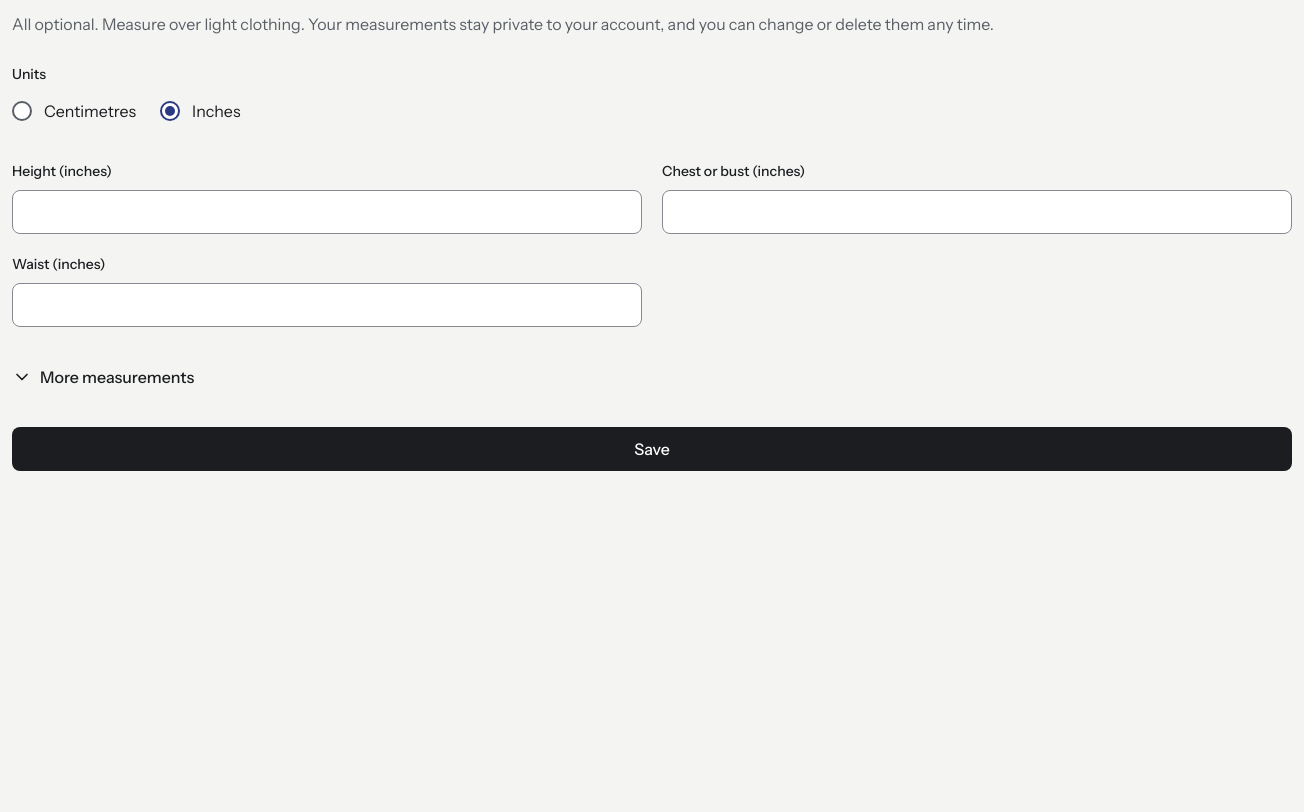
Scenario: explains a measurement out of range in the chosen units
The image size is (1304, 812).
Type "5" into the field labelled "Chest or bust (inches)". click: (977, 212)
box: [662,190,1292,234]
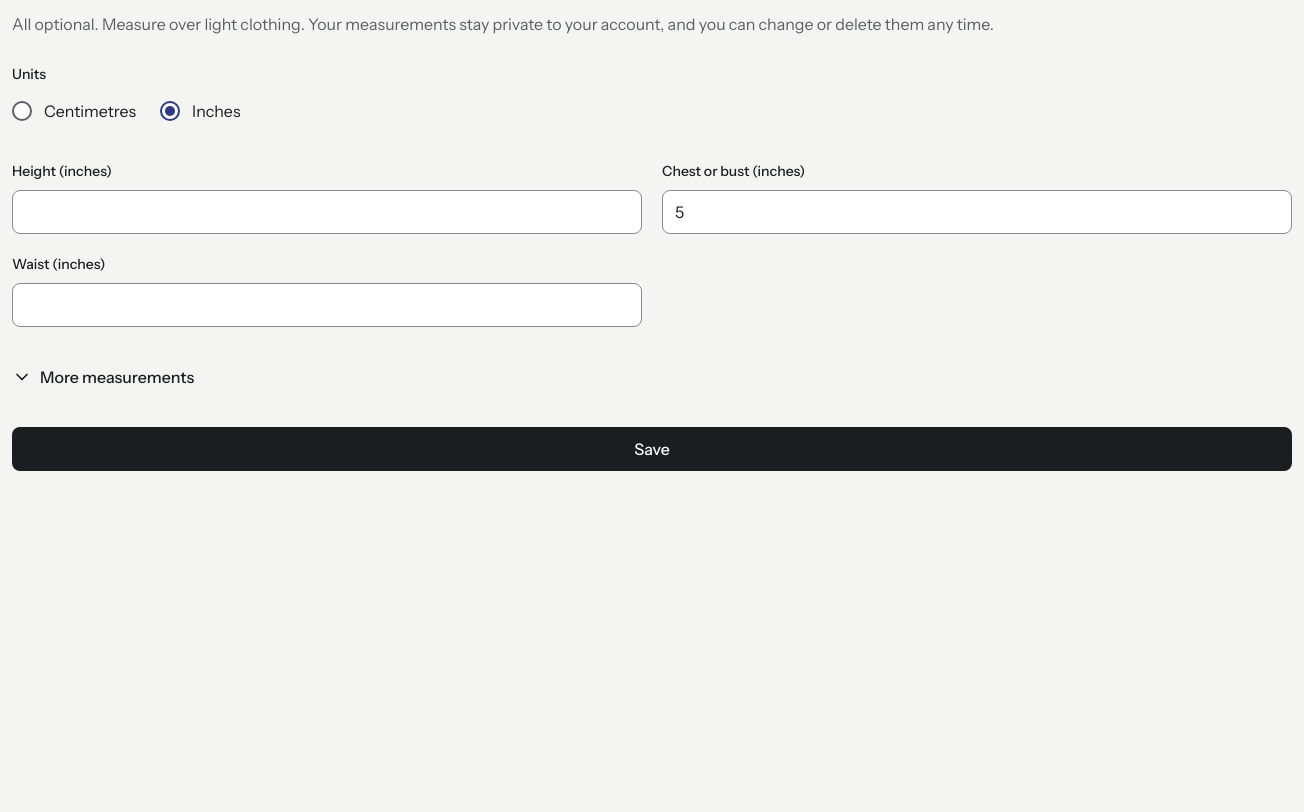
Click the button "Save". click: (652, 449)
box: [12,427,1292,471]
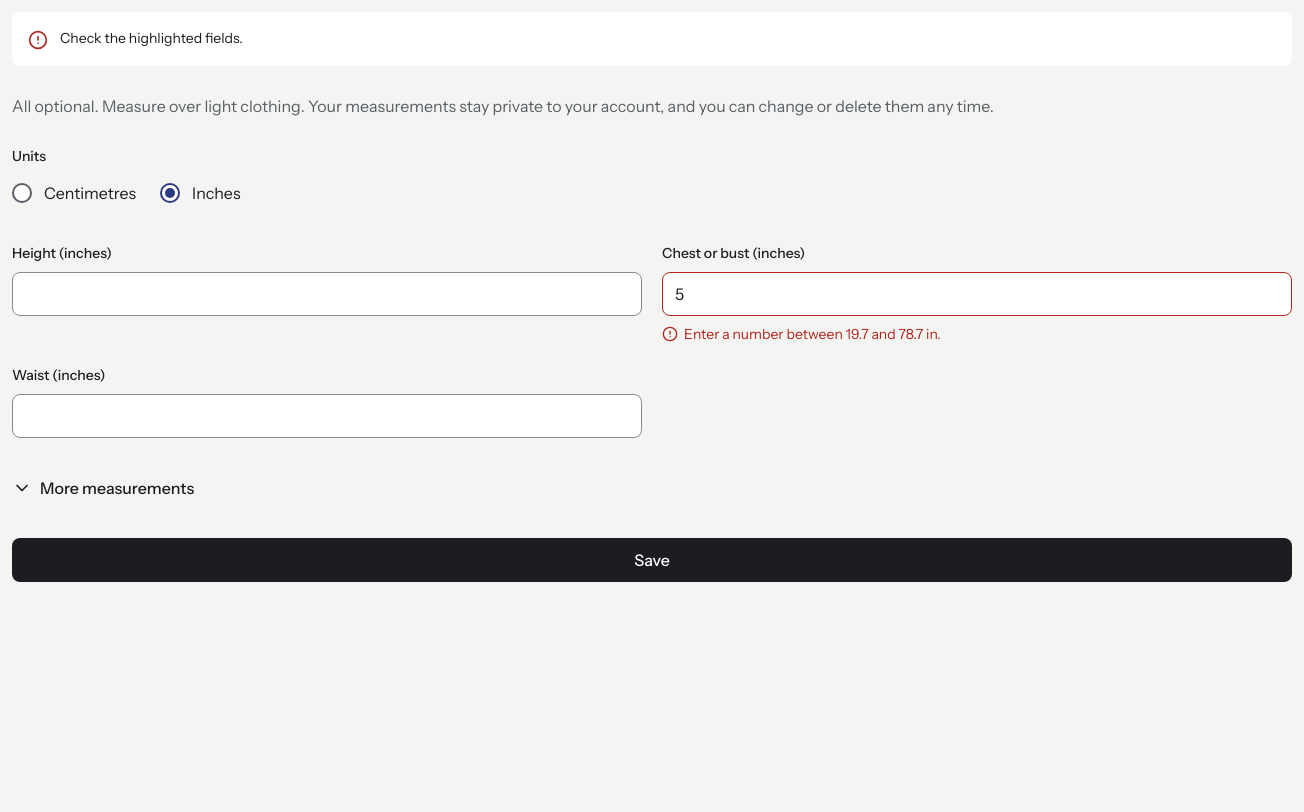
Expected: the text "Enter a number between 19.7 and 78.7 in." is shown, [662,325,941,343]
